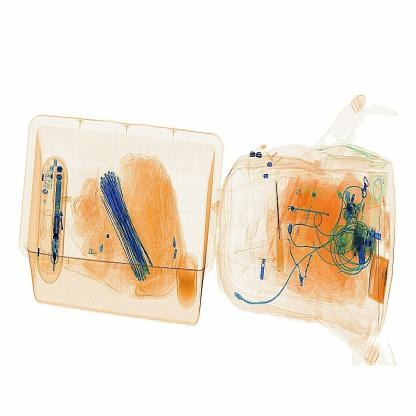wrench: (272, 177, 287, 276)
